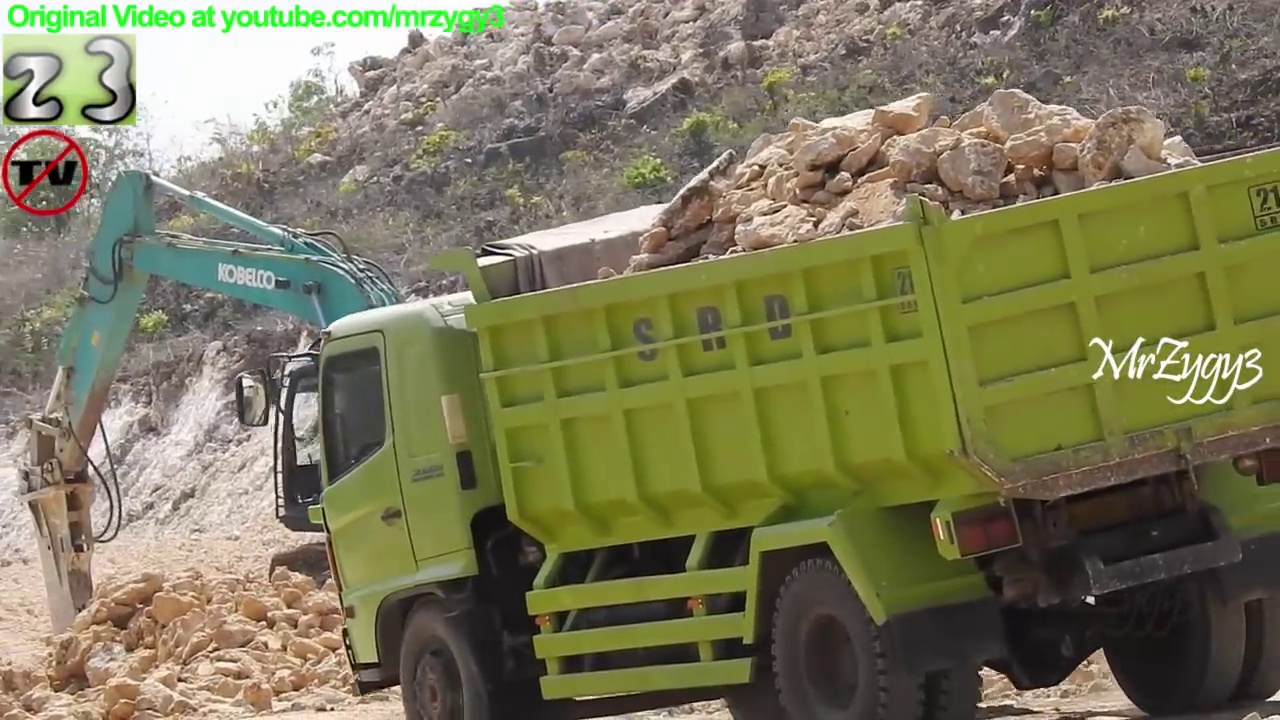excavator: (12, 161, 762, 661)
truck: (224, 127, 1280, 720)
